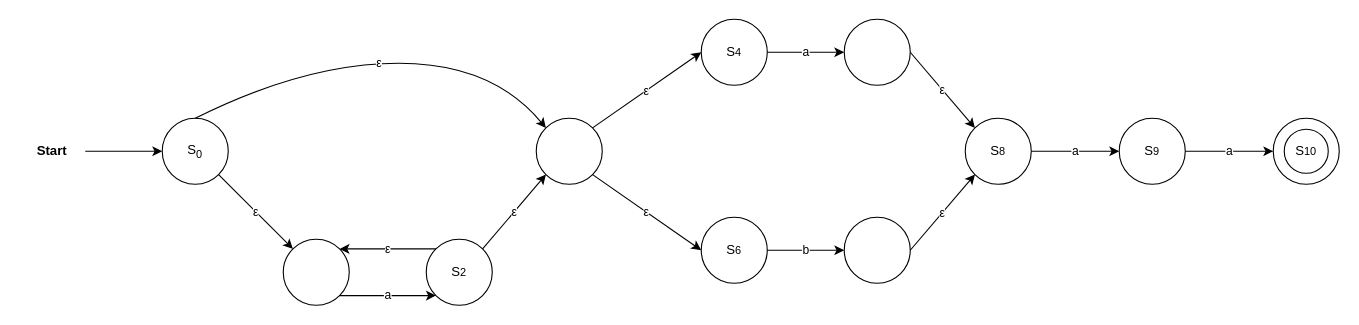
This 1359x325 diagram has some shape labels left out. Each missing label, with the centre of its shape:
"S 1" goes at [315,271].
"S 3" goes at [568,150].
"S 5" goes at [876,51].
"S 7" goes at [876,249].
